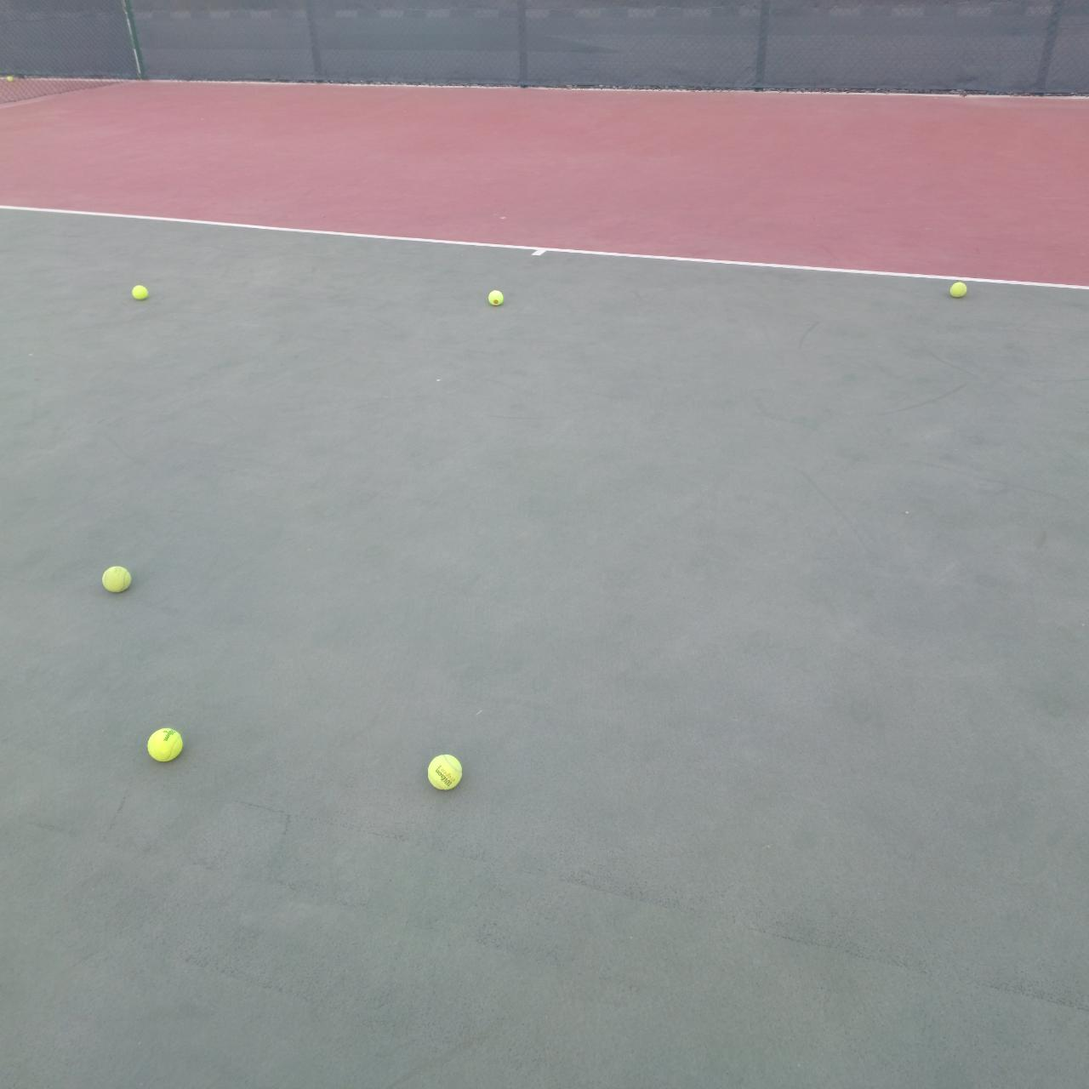tennis-ball: (425, 751, 463, 790), (145, 724, 184, 762), (100, 562, 132, 593), (129, 282, 149, 300), (948, 279, 967, 297), (486, 288, 505, 305)
